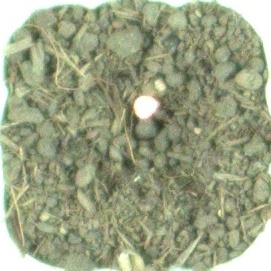chilli seed: (131, 93, 162, 122)
